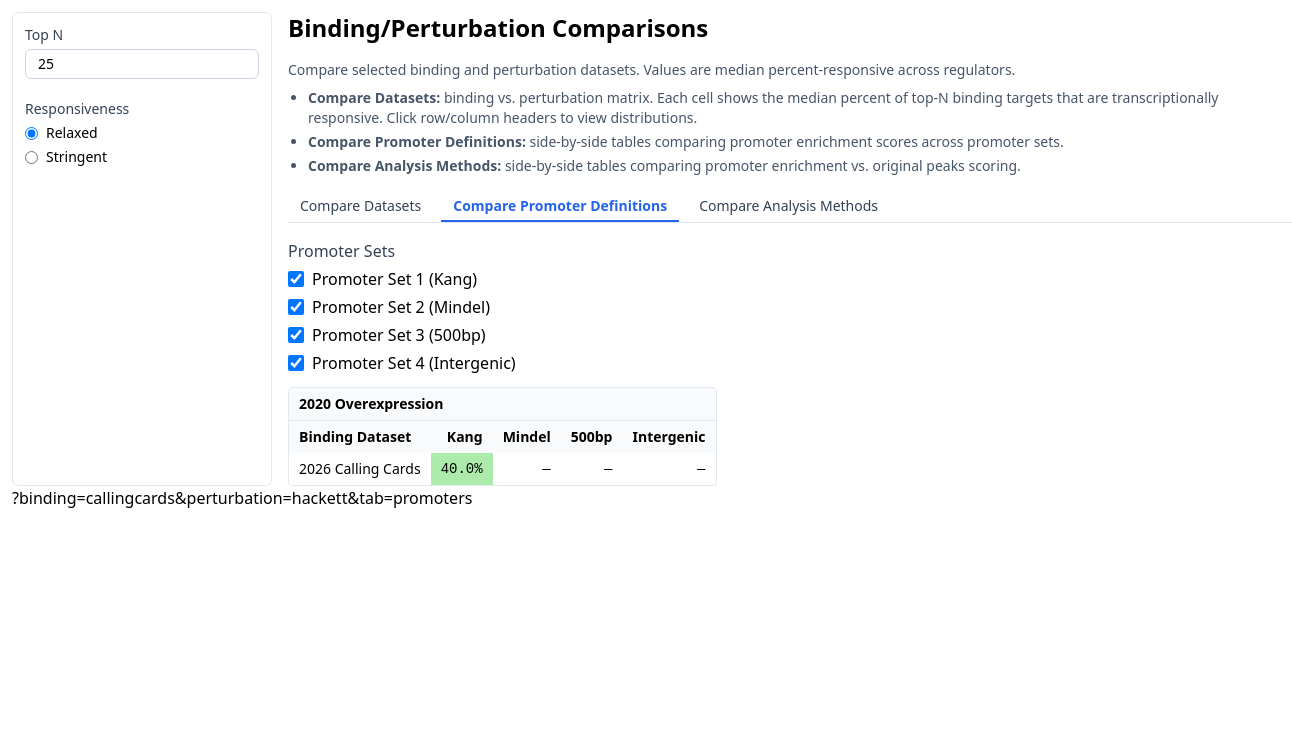
Test: Comparison route › promoter-set selector defaults to all four checked; unchecking one drops its column + writes the URL; re-checking all clears the param
Expected: the checkbox labelled "Promoter Set 1 (Kang)" is checked, [288, 271, 304, 287]
Expected: the checkbox labelled "Promoter Set 3 (500bp)" is checked, [288, 327, 304, 343]
Click the checkbox labelled "Promoter Set 2 (Mindel)".
click(296, 307)  # box [288, 299, 304, 315]
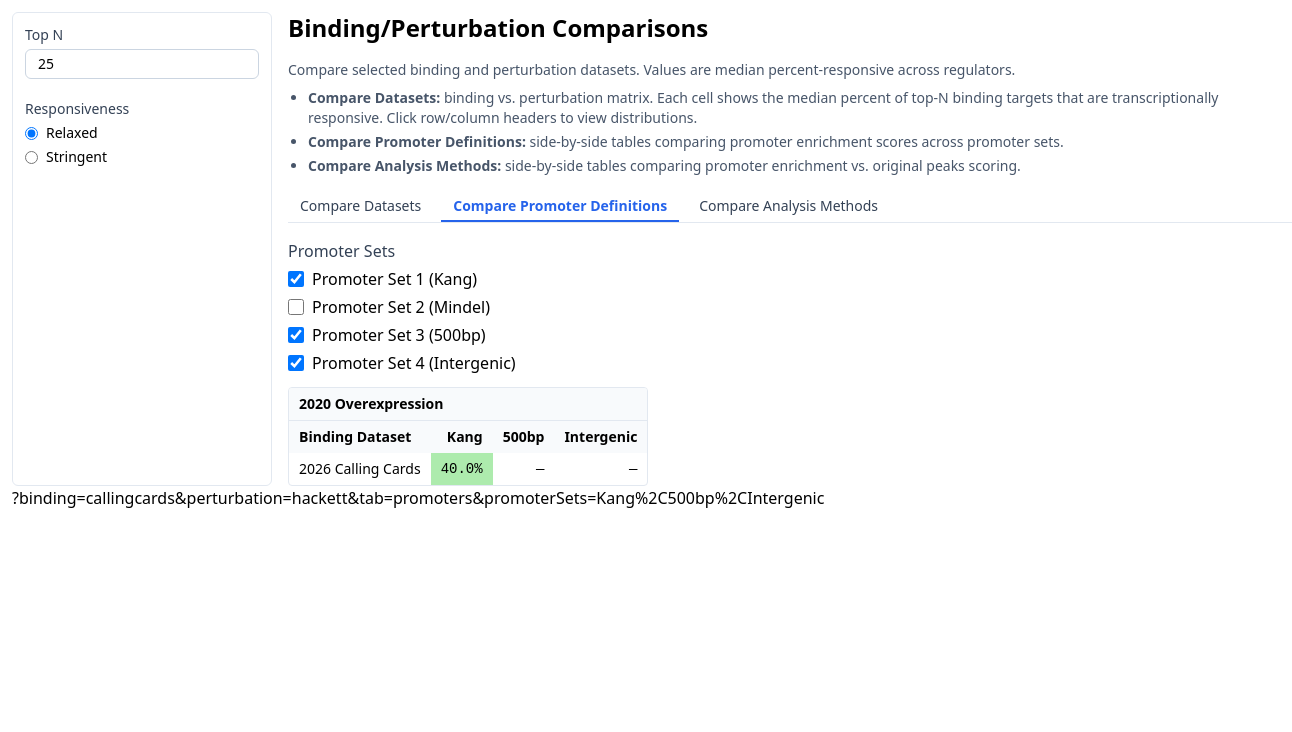
Expected: the text with test id "loc-search" shows "promoterSets=", [12, 487, 824, 509]
# Re-check Mindel → back to all four → the param is cleared (clean URL).
Click the checkbox labelled "Promoter Set 2 (Mindel)".
click(296, 307)  # box [288, 299, 304, 315]
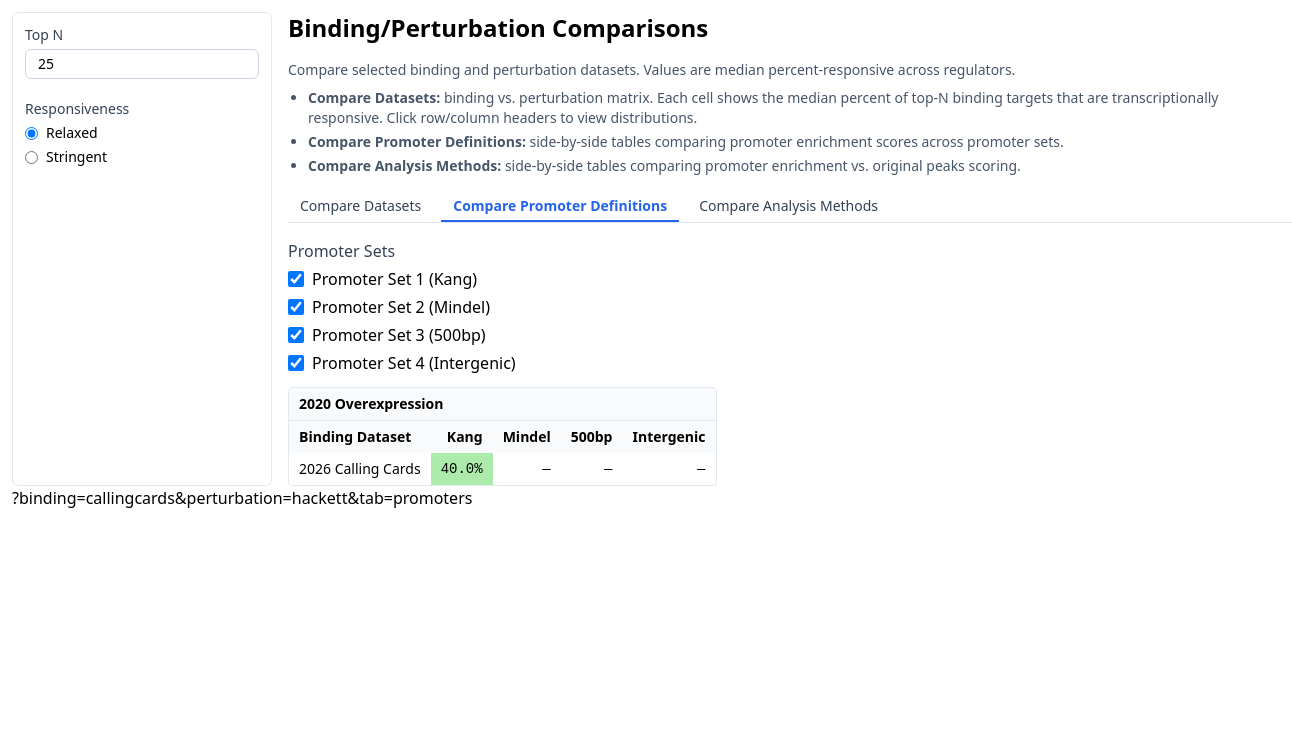
Expected: the column heading "Mindel" is shown, [493, 421, 561, 453]
